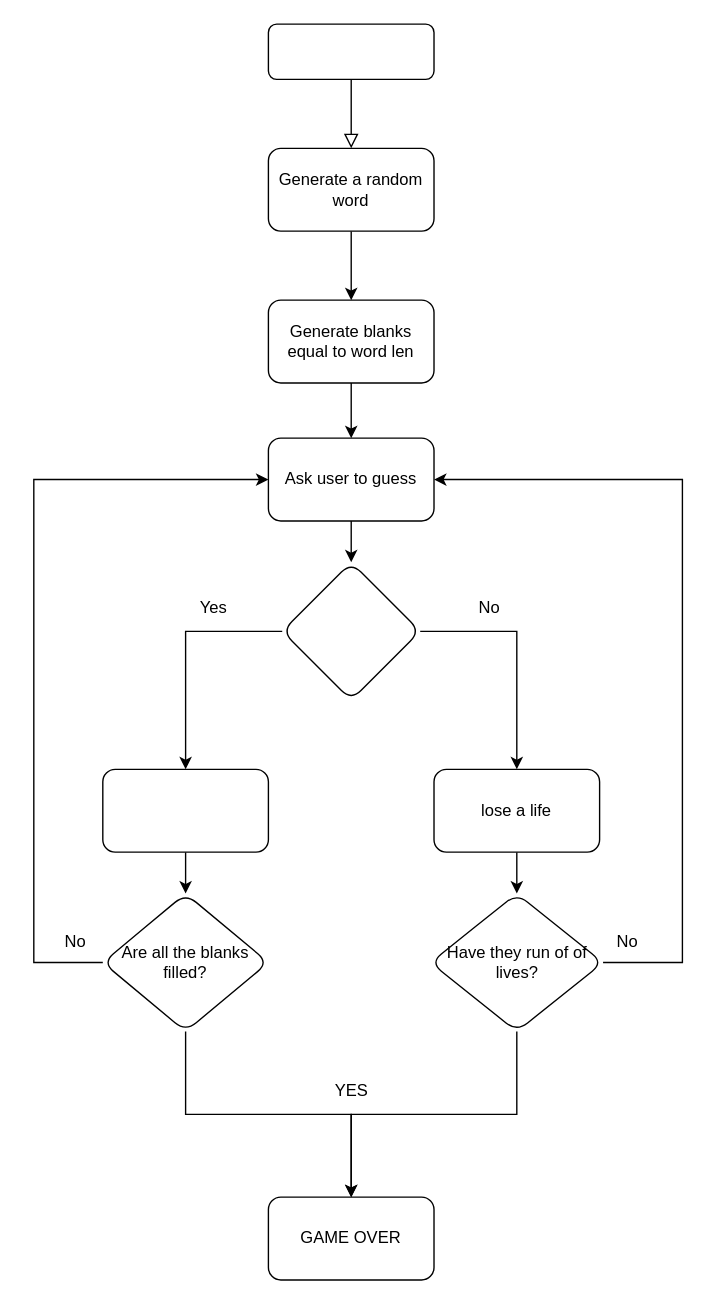
This 718x1304 diagram has some shape labels left out. Each missing label, with the box of its shape:
Is the letter in random word: (281, 561, 420, 700)
Replace blank in letter: (101, 768, 268, 852)
Start: (267, 23, 434, 79)
